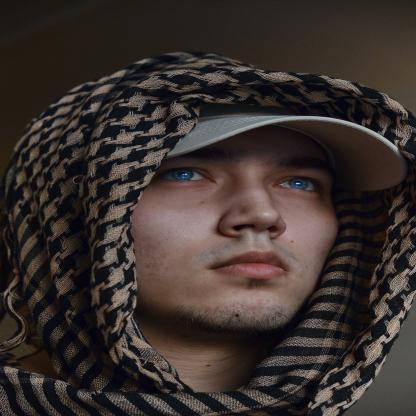Eye: (150, 166, 225, 191), (272, 175, 331, 201)
Mouth: (208, 248, 297, 281)
Nose: (219, 182, 287, 240)
